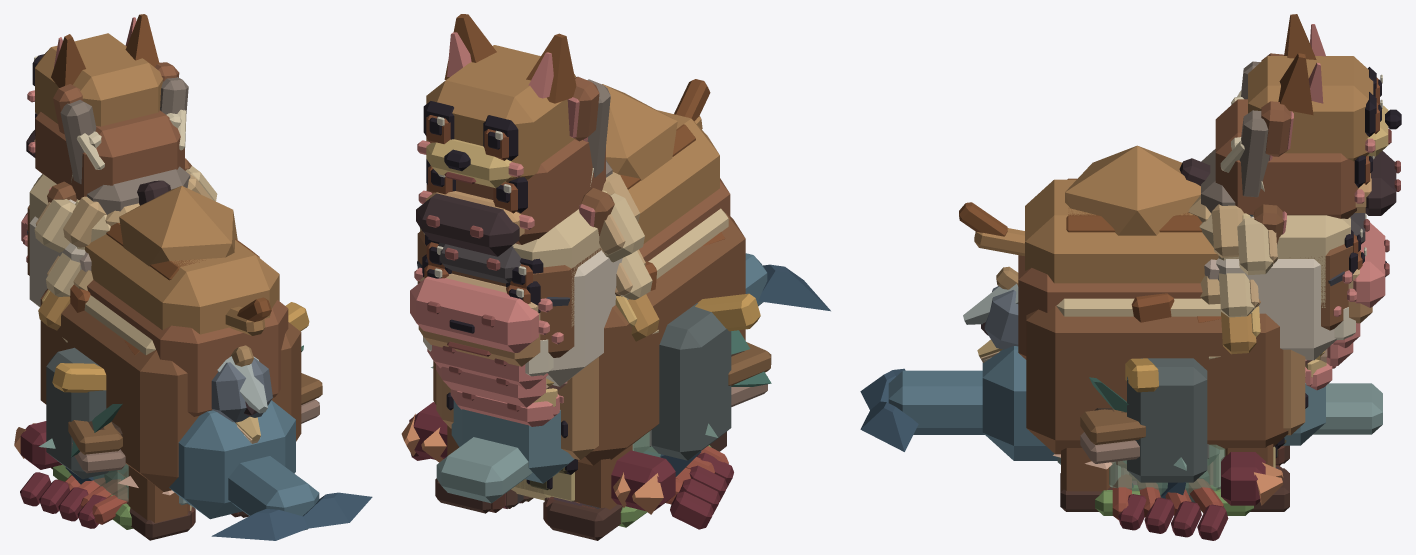
The model's file is rpg-creatures.glb.
3 renders of one model, left to right at view 1: azimuth 30°, elevation 25°; view 2: azimuth 150°, elevation 25°; view 3: azimuth 270°, elevation 25°, orthographic. The views are drawn at different scales.
Visible parts, largest first — view 1: body.030-mesh, body.025-mesh, body.021-mesh, body.045-mesh, head.021-mesh, tail.040-mesh, head.030-mesh, body.050-mesh, tail.024-mesh, leg_rear_left.025-mesh, wing_left-mesh, body-mesh (+25 smaller); view 2: body.025-mesh, head.030-mesh, head.021-mesh, head-mesh, body.030-mesh, body.050-mesh, head.045-mesh, head.025-mesh, head.026-mesh, leg_front_left.025-mesh, wing_left.011-mesh, tail.040-mesh (+27 smaller); view 3: body.025-mesh, body.030-mesh, head.021-mesh, head.030-mesh, body.050-mesh, tail.040-mesh, head.026-mesh, head-mesh, body.045-mesh, body.021-mesh, head.045-mesh, body-mesh (+24 smaller).
Part boxes in pixels (bbox=[...]): body.030-mesh: bbox=[85, 186, 279, 334]; body.025-mesh: bbox=[40, 289, 301, 491]; body.021-mesh: bbox=[87, 180, 288, 416]; body.045-mesh: bbox=[169, 400, 295, 519]; head.021-mesh: bbox=[26, 110, 184, 199]; tail.040-mesh: bbox=[211, 456, 372, 540]; head.030-mesh: bbox=[27, 33, 163, 126]; body.050-mesh: bbox=[46, 347, 127, 479]; tail.024-mesh: bbox=[211, 356, 272, 422]; leg_rear_left.025-mesh: bbox=[126, 466, 191, 540]; wing_left-mesh: bbox=[52, 363, 122, 457]; body-mesh: bbox=[70, 285, 155, 355]; body.025-mesh: bbox=[433, 213, 745, 465]; head.030-mesh: bbox=[417, 45, 576, 188]; head.021-mesh: bbox=[416, 139, 605, 256]; head-mesh: bbox=[410, 168, 601, 352]; body.030-mesh: bbox=[602, 84, 719, 243]; body.050-mesh: bbox=[633, 303, 731, 460]; head.045-mesh: bbox=[436, 392, 574, 503]; head.025-mesh: bbox=[417, 230, 601, 366]; head.026-mesh: bbox=[417, 250, 622, 386]; leg_front_left.025-mesh: bbox=[547, 444, 632, 540]; wing_left.011-mesh: bbox=[611, 450, 675, 514]; tail.040-mesh: bbox=[745, 253, 830, 311]; body.025-mesh: bbox=[1026, 306, 1305, 454]; body.030-mesh: bbox=[1025, 145, 1218, 283]; head.021-mesh: bbox=[1215, 99, 1400, 218]; head.030-mesh: bbox=[1248, 56, 1401, 161]; body.050-mesh: bbox=[1123, 358, 1219, 482]; tail.040-mesh: bbox=[860, 368, 984, 451]; head.026-mesh: bbox=[1216, 258, 1355, 360]; head-mesh: bbox=[1199, 181, 1389, 307]; body.045-mesh: bbox=[982, 340, 1060, 464]; body.021-mesh: bbox=[1018, 158, 1210, 359]; head.045-mesh: bbox=[1283, 383, 1382, 445]; body-mesh: bbox=[1056, 293, 1221, 322].
Bounding box in the file's own units: 1.39 × 2.2 × 2.42.
